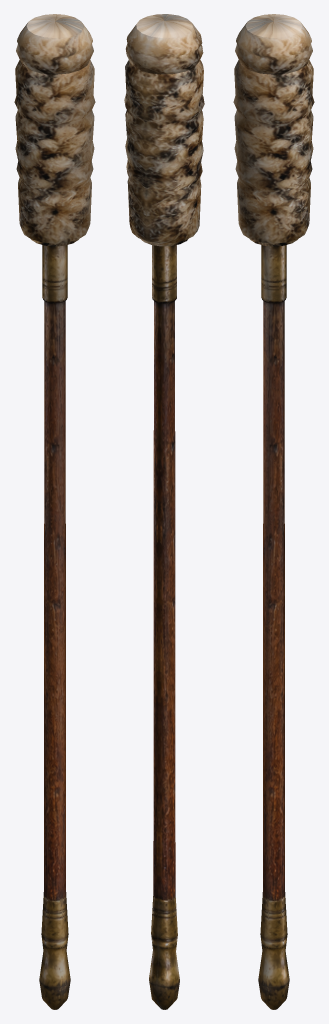
The model's file is SM_Sponge.fbx.
3 renders of one model, left to right at view 1: azimuth 90°, elevation 25°; view 2: azimuth 150°, elevation 25°; view 3: azimuth 270°, elevation 25°, orthographic.
Visible parts, largest first — view 1: SM_Sponge; view 2: SM_Sponge; view 3: SM_Sponge.
Boxes of the visible parts, <box> form: SM_Sponge: <box>14,14,95,1009</box>; SM_Sponge: <box>124,14,204,1009</box>; SM_Sponge: <box>233,14,314,1009</box>.
Size of the model in its own units: 14.88 by 14.88 by 200.
1 material, 1 textured.
